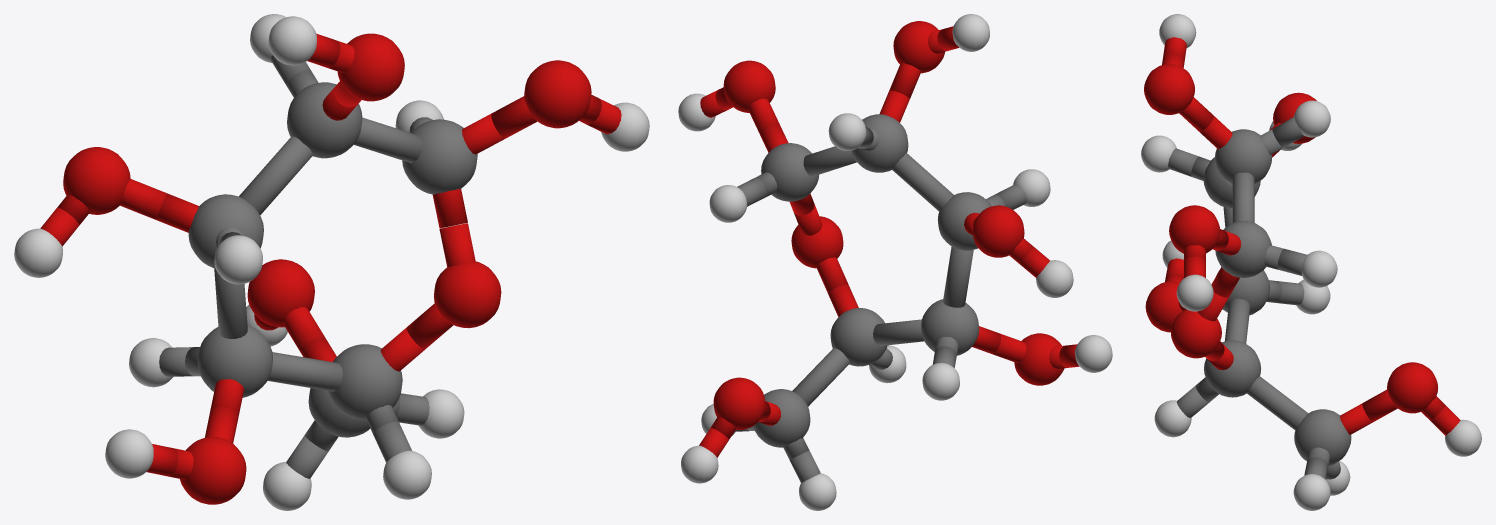
Rendered from alpha_D_glucopyranose.obj.
The picture shows the model from 3 angles, left to right: view 1: azimuth 30°, elevation 25°; view 2: azimuth 150°, elevation 25°; view 3: azimuth 270°, elevation 25°; orthographic projection. The views are drawn at different scales.
Parts seen in each view (by area): view 1: ShapeSphere.010, ShapeSphere.008_ShapeSphere.010, ShapeSphere.006_ShapeSphere.010, ShapeSphere.004_ShapeSphere.009, ShapeSphere.009_ShapeSphere.010, ShapeSphere_ShapeSphere.009, ShapeSphere.002_ShapeSphere.009, ShapeSphere.001_ShapeSphere.009, ShapeSphere.003_ShapeSphere.009, ShapeSphere.005_ShapeSphere.009, ShapeSphere.007_ShapeSphere.010, ShapeCylinder.008_ShapeCylinder.013 (+33 smaller); view 2: ShapeSphere.008_ShapeSphere.010, ShapeSphere.010, ShapeSphere.006_ShapeSphere.010, ShapeSphere.002_ShapeSphere.009, ShapeSphere.011_ShapeSphere.010, ShapeSphere.005_ShapeSphere.009, ShapeSphere.009_ShapeSphere.010, ShapeSphere.004_ShapeSphere.009, ShapeSphere.007_ShapeSphere.010, ShapeSphere.003_ShapeSphere.009, ShapeSphere_ShapeSphere.009, ShapeSphere.001_ShapeSphere.009 (+30 smaller); view 3: ShapeSphere.011_ShapeSphere.010, ShapeSphere.009_ShapeSphere.010, ShapeSphere.008_ShapeSphere.010, ShapeSphere.003_ShapeSphere.009, ShapeSphere.005_ShapeSphere.009, ShapeSphere.010, ShapeSphere_ShapeSphere.009, ShapeSphere.004_ShapeSphere.009, ShapeCylinder.006_ShapeCylinder.012, ShapeSphere.001_ShapeSphere.009, ShapeSphere.006_ShapeSphere.010, ShapeCylinder.004_ShapeCylinder.012 (+28 smaller).
Part boxes in pixels (bbox=[...]): ShapeSphere.010: bbox=[402, 119, 477, 194]; ShapeSphere.008_ShapeSphere.010: bbox=[328, 344, 402, 420]; ShapeSphere.006_ShapeSphere.010: bbox=[197, 324, 272, 397]; ShapeSphere.004_ShapeSphere.009: bbox=[524, 60, 591, 128]; ShapeSphere.009_ShapeSphere.010: bbox=[287, 82, 362, 158]; ShapeSphere_ShapeSphere.009: bbox=[434, 261, 501, 328]; ShapeSphere.002_ShapeSphere.009: bbox=[63, 147, 130, 214]; ShapeSphere.001_ShapeSphere.009: bbox=[180, 437, 246, 504]; ShapeSphere.003_ShapeSphere.009: bbox=[337, 33, 404, 101]; ShapeSphere.005_ShapeSphere.009: bbox=[247, 259, 314, 327]; ShapeSphere.007_ShapeSphere.010: bbox=[188, 194, 263, 268]; ShapeCylinder.008_ShapeCylinder.013: bbox=[239, 136, 312, 215]; ShapeSphere.008_ShapeSphere.010: bbox=[830, 308, 887, 366]; ShapeSphere.010: bbox=[761, 143, 818, 201]; ShapeSphere.006_ShapeSphere.010: bbox=[921, 299, 979, 355]; ShapeSphere.002_ShapeSphere.009: bbox=[972, 205, 1024, 257]; ShapeSphere.011_ShapeSphere.010: bbox=[753, 389, 810, 447]; ShapeSphere.005_ShapeSphere.009: bbox=[713, 377, 765, 429]; ShapeSphere.009_ShapeSphere.010: bbox=[851, 114, 908, 172]; ShapeSphere.004_ShapeSphere.009: bbox=[723, 60, 775, 112]; ShapeSphere.007_ShapeSphere.010: bbox=[937, 192, 991, 250]; ShapeSphere.003_ShapeSphere.009: bbox=[893, 21, 944, 73]; ShapeSphere_ShapeSphere.009: bbox=[791, 216, 843, 268]; ShapeSphere.001_ShapeSphere.009: bbox=[1014, 333, 1064, 385]; ShapeSphere.011_ShapeSphere.010: bbox=[1294, 409, 1351, 465]; ShapeSphere.009_ShapeSphere.010: bbox=[1215, 129, 1271, 183]; ShapeSphere.008_ShapeSphere.010: bbox=[1204, 340, 1260, 397]; ShapeSphere.003_ShapeSphere.009: bbox=[1144, 64, 1194, 114]; ShapeSphere.005_ShapeSphere.009: bbox=[1387, 362, 1437, 413]; ShapeSphere.010: bbox=[1215, 221, 1271, 277]; ShapeSphere_ShapeSphere.009: bbox=[1171, 309, 1221, 358]; ShapeSphere.004_ShapeSphere.009: bbox=[1169, 205, 1220, 253]; ShapeCylinder.006_ShapeCylinder.012: bbox=[1247, 376, 1308, 430]; ShapeSphere.001_ShapeSphere.009: bbox=[1145, 281, 1182, 332]; ShapeSphere.006_ShapeSphere.010: bbox=[1217, 270, 1270, 315]; ShapeCylinder.004_ShapeCylinder.012: bbox=[1232, 172, 1254, 222].
Size of the model in its own units: 6.73 by 6.67 by 4.65.
